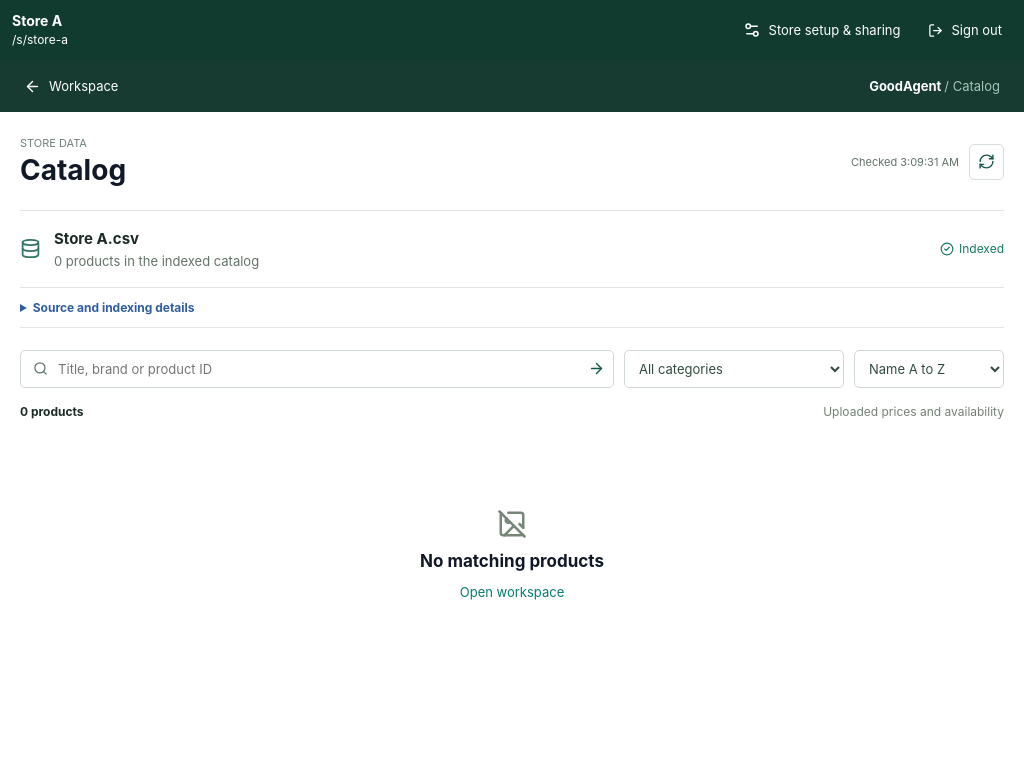
it: StoreAccess request intent and explicit recovery › keeps explicit login unbound and binds the immediately accepted identity
Expected: the text "Store A.csv" is shown, [54, 229, 139, 248]
Click the button named "Refresh catalog" at (986,162), box [969, 144, 1004, 180]
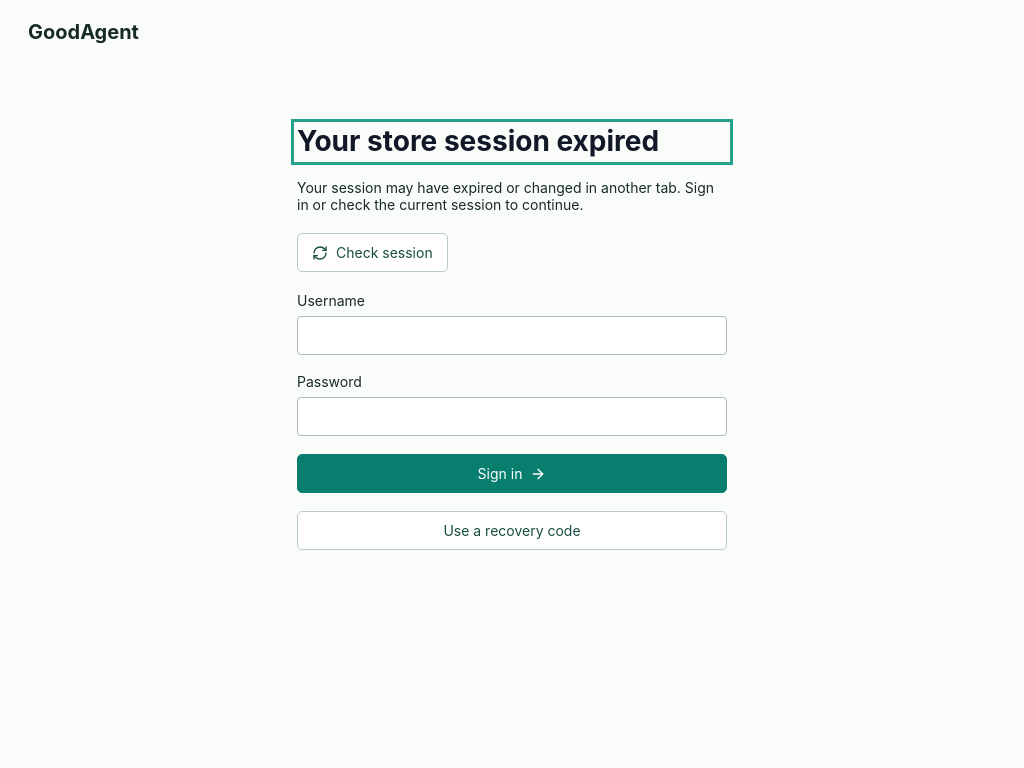
Expected: the button "Check session" is enabled, [297, 233, 448, 272]
Type "fixture-b" into the field labelled "Username" at (512,336), box [297, 316, 727, 355]
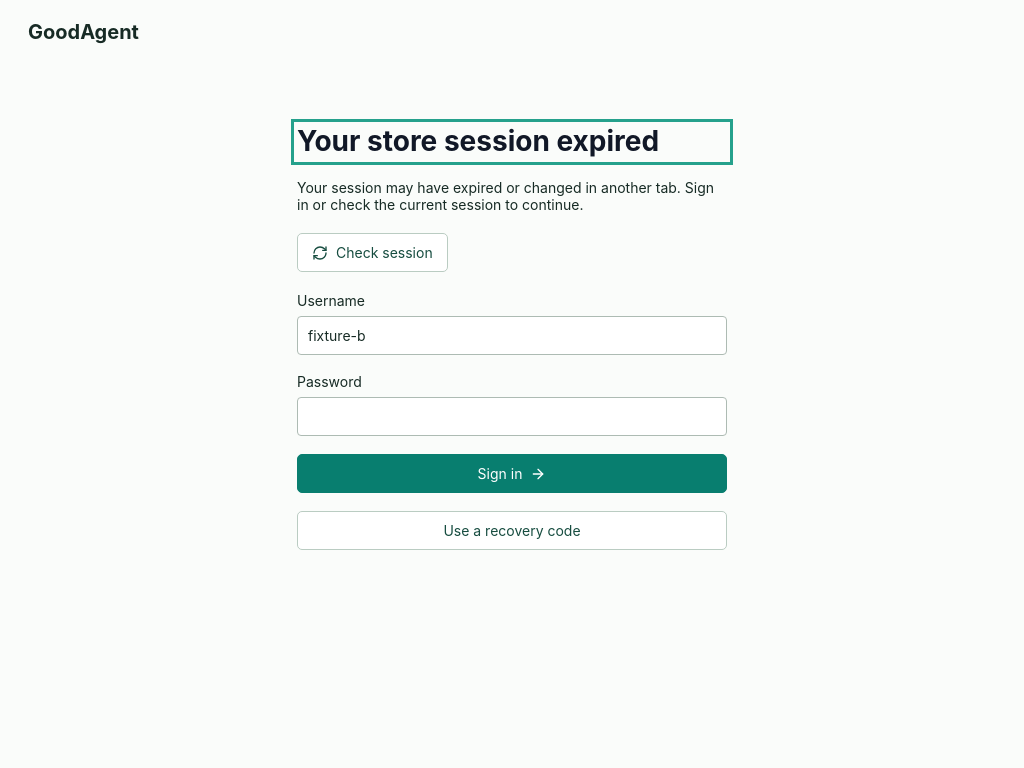
Type "synthetic-test-only-password" into the password field labelled "Password" at (512,416), box [297, 397, 727, 436]
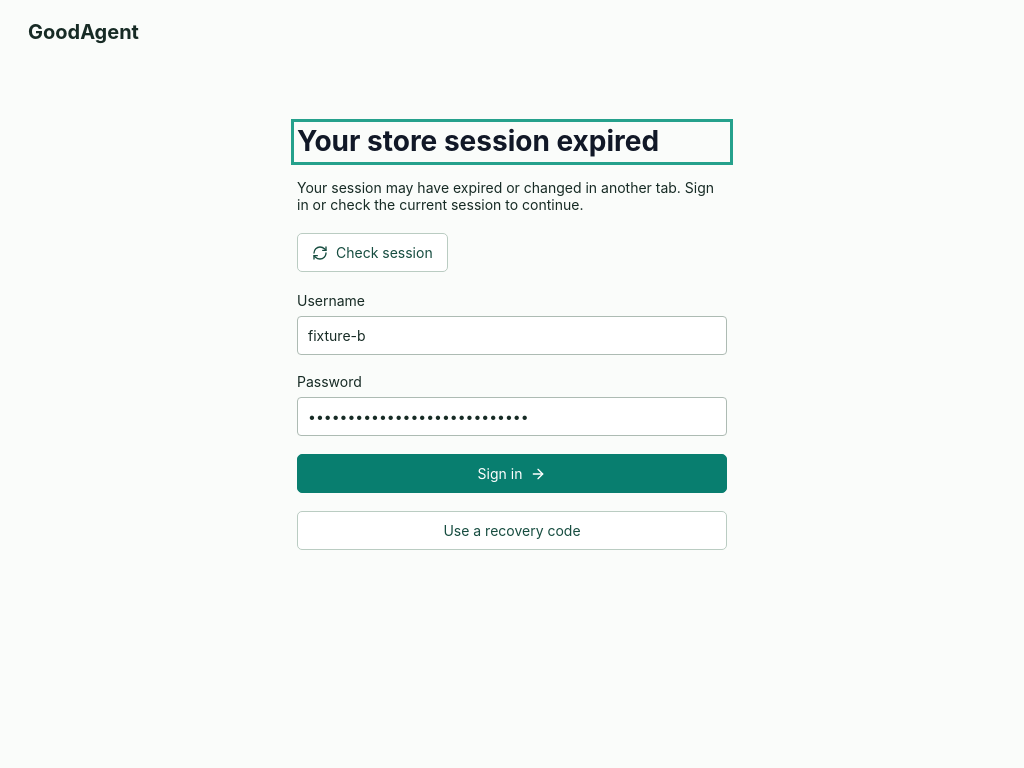
Click the button "Sign in" at (512,474), box [297, 454, 727, 493]
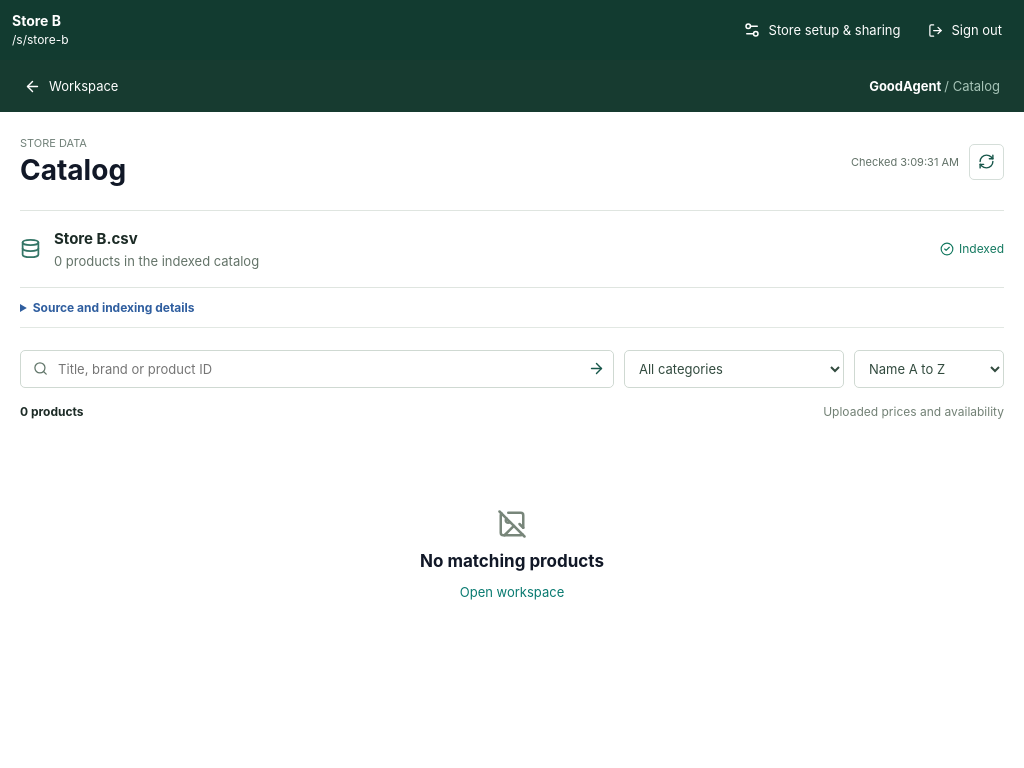
Expected: the text "Store B.csv" is shown, [54, 229, 138, 248]
